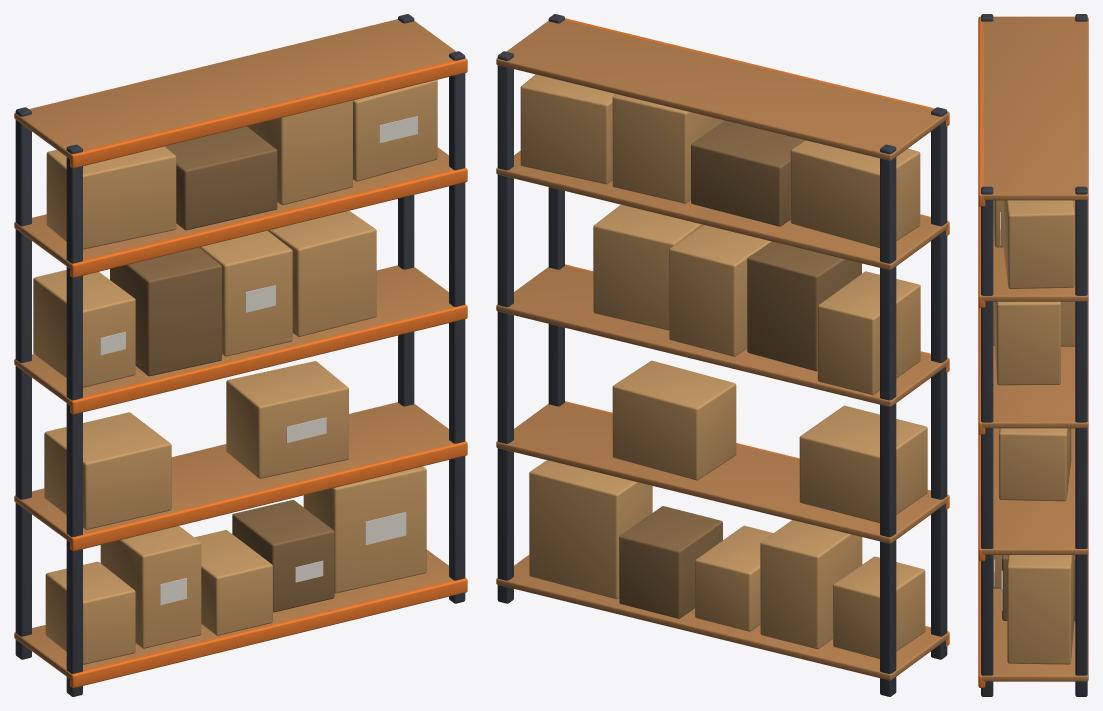
File: estante.glb
The picture shows the model from 3 angles, left to right: view 1: azimuth 30°, elevation 25°; view 2: azimuth 150°, elevation 25°; view 3: azimuth 270°, elevation 25°; orthographic projection. The views are drawn at different scales.
Visible parts, largest first — view 1: Cube.042, Cube.016, Cube.020, Cube.018, Cube.026, Cube.014, Cube.034, Cube.030, Cube.036, Cube.001, Cube, Cube.008 (+20 smaller); view 2: Cube.042, Cube.016, Cube.014, Cube.020, Cube.018, Cube.022, Cube.034, Cube.008, Cube.026, Cube.028, Cube.030, Cube.001 (+13 smaller); view 3: Cube.042, Cube.014, Cube.003, Cube.040, Cube.002, Cube.016, Cube.030, Cube.020, Cube.022, Cube.004, Cube.032, Cube.043 (+8 smaller).
Part boxes in pixels (x1,y1,x2,y2): Cube.042: (14, 19, 456, 158); Cube.016: (14, 402, 453, 541); Cube.020: (226, 361, 348, 478); Cube.018: (44, 412, 171, 529); Cube.026: (110, 247, 221, 376); Cube.014: (303, 466, 426, 593); Cube.034: (46, 146, 176, 249); Cube.030: (268, 211, 376, 336); Cube.036: (165, 126, 277, 230); Cube.001: (15, 107, 31, 659); Cube: (66, 144, 82, 696); Cube.008: (100, 526, 201, 648); Cube.042: (496, 20, 948, 160); Cube.016: (496, 402, 948, 543); Cube.014: (529, 460, 652, 599); Cube.020: (612, 360, 736, 480); Cube.018: (799, 405, 927, 523); Cube.022: (496, 266, 948, 406); Cube.034: (790, 140, 920, 248); Cube.008: (760, 520, 862, 649); Cube.026: (747, 241, 861, 371); Cube.028: (669, 225, 771, 356); Cube.030: (593, 204, 703, 330); Cube.001: (880, 144, 896, 696); Cube.042: (982, 16, 1088, 200); Cube.014: (1007, 555, 1074, 664); Cube.003: (1075, 186, 1087, 696); Cube.040: (1003, 200, 1074, 288); Cube.002: (981, 186, 993, 696); Cube.016: (982, 427, 1088, 554); Cube.030: (995, 301, 1060, 385); Cube.020: (999, 428, 1071, 501); Cube.022: (982, 300, 1088, 428); Cube.004: (982, 553, 1088, 681); Cube.032: (982, 199, 1088, 301); Cube.043: (978, 16, 985, 206).
Size of the model in its own units: 2.42 by 3.2 by 0.63.
